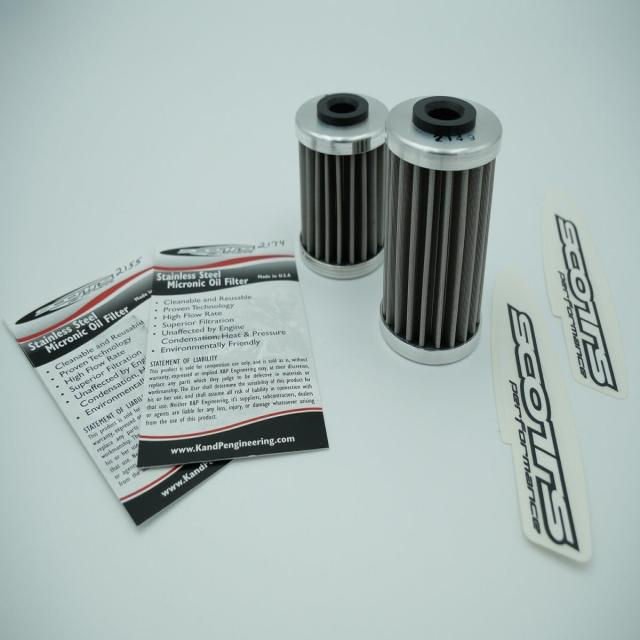oil_filter: (391, 89, 491, 366), (295, 87, 388, 271)
